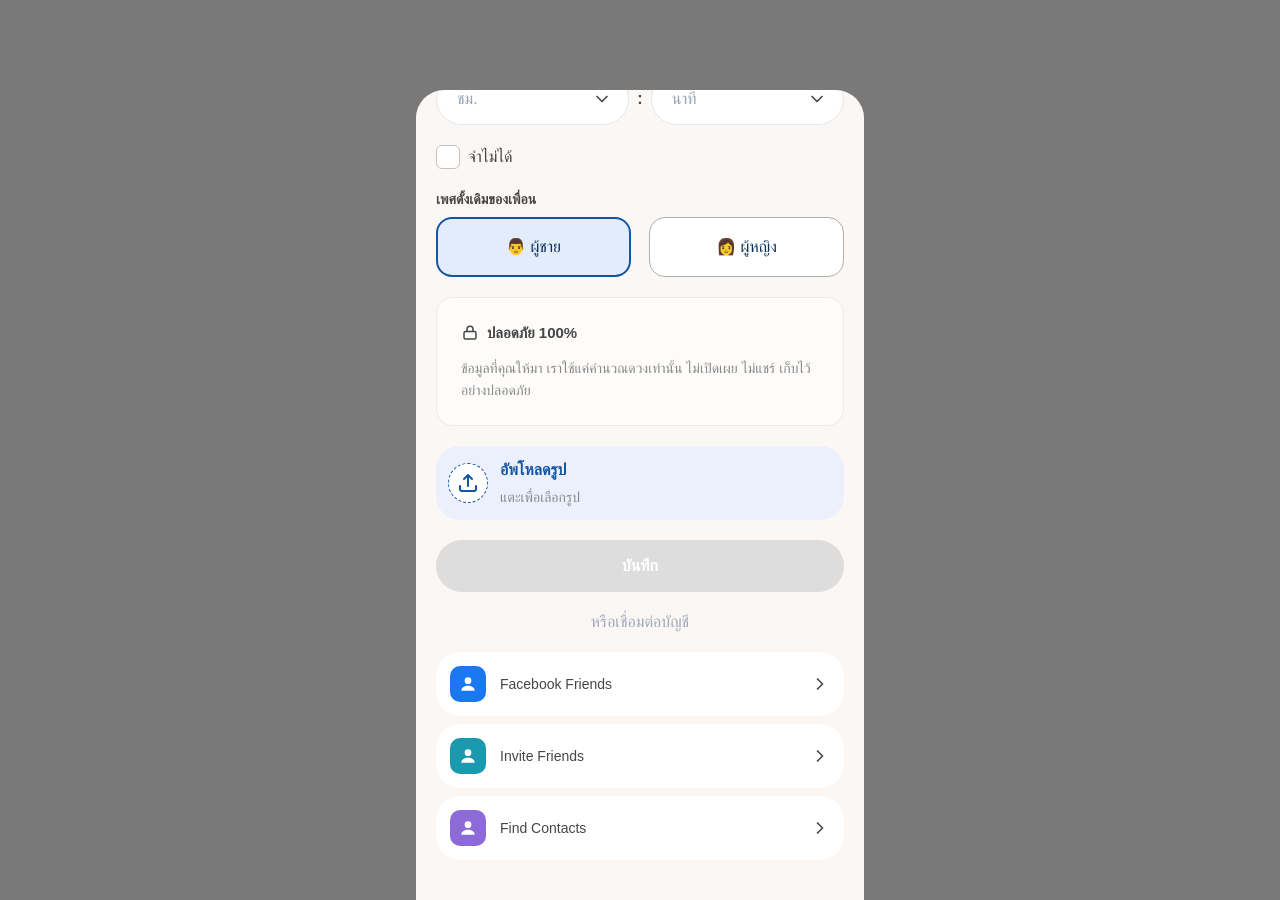
Test: frame 720:25691 parity › Facebook / Invite / Contacts are drawn per Figma but ANSWER "เร็วๆ นี้" (no backend, not faked)
The image size is (1280, 900).
(page scrolled)
Click the button with test id "connect-facebook" at point(468, 684), box [436,652,844,716]
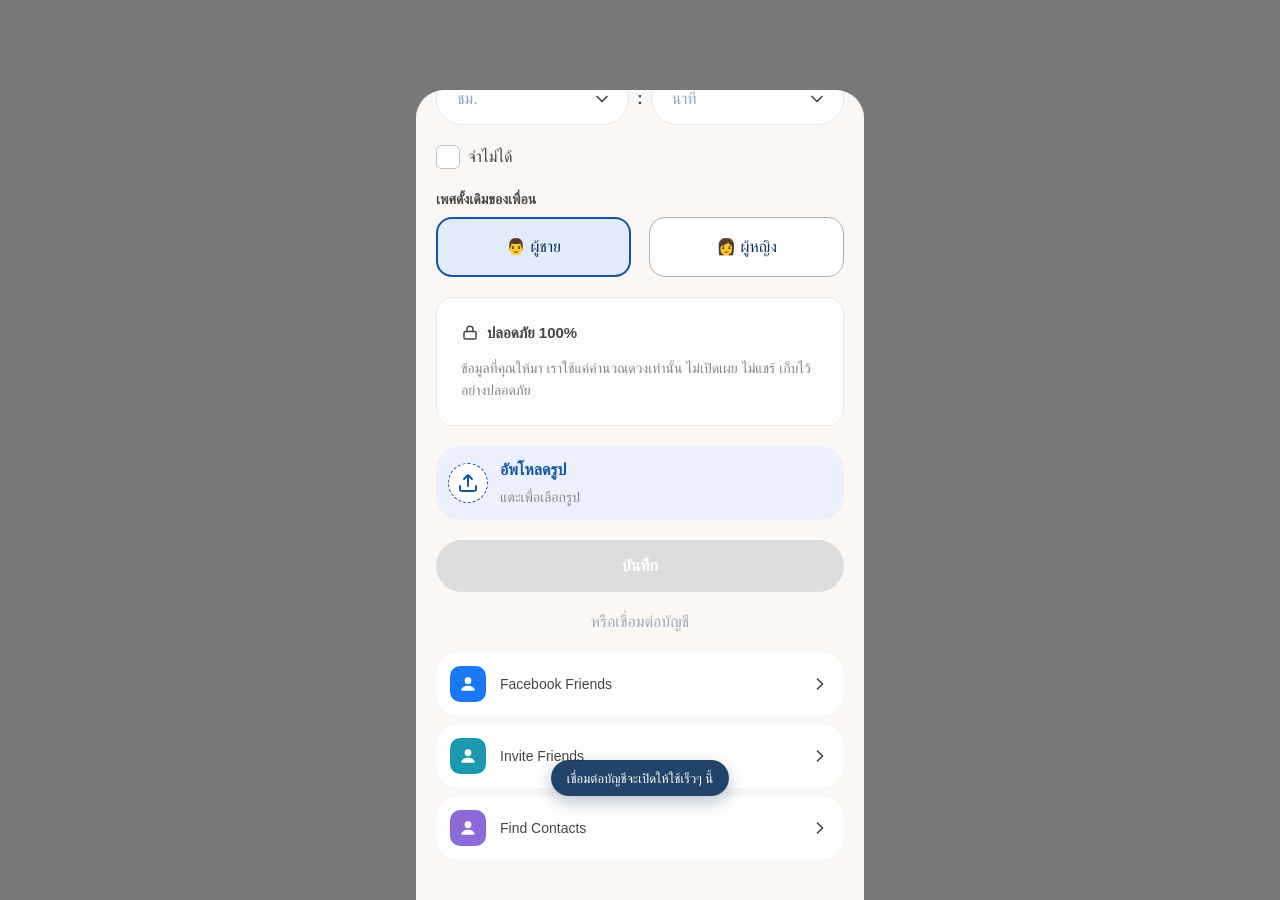
Expected: the text "หรือเชื่อมต่อบัญชี" is shown, [591,612,689,630]
Now the message with test id "coming-soon-toast" shows "เร็วๆ นี้", box [567,769,713,787]
